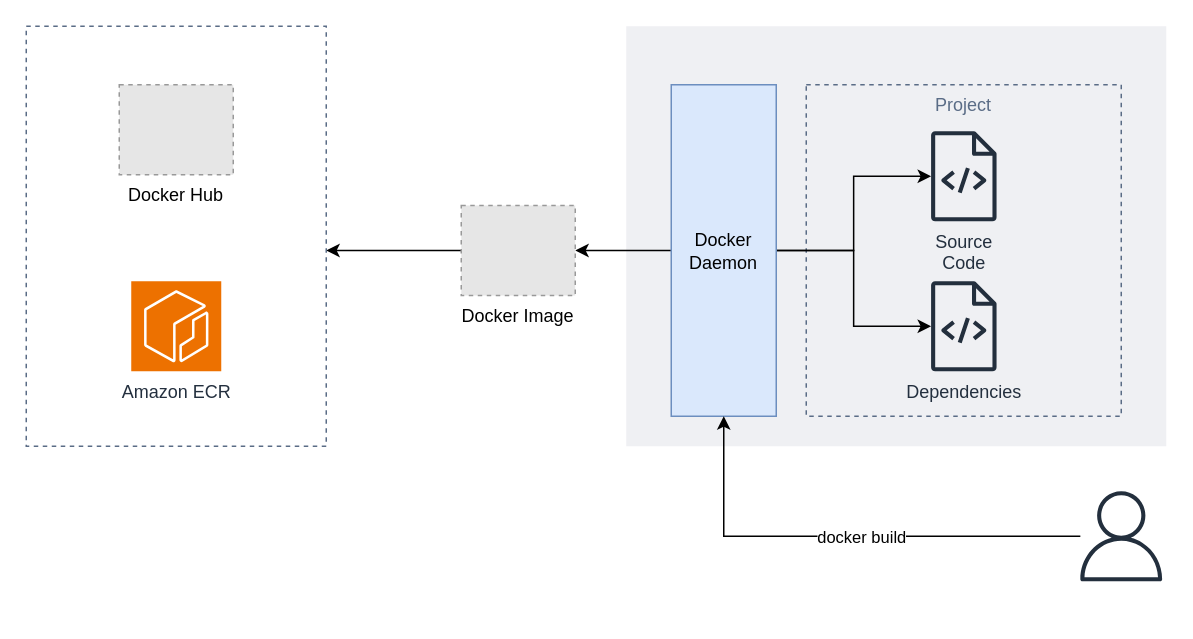
Image size: 1193x639. Some labels were removed from this diagram. Grey dashed boxes stand in for pictures. Each missing label, with the box of its shape:
Developer: (1076, 490, 1166, 580)
Docker Host: (626, 26, 1166, 446)
Registries: (25, 25, 326, 446)
